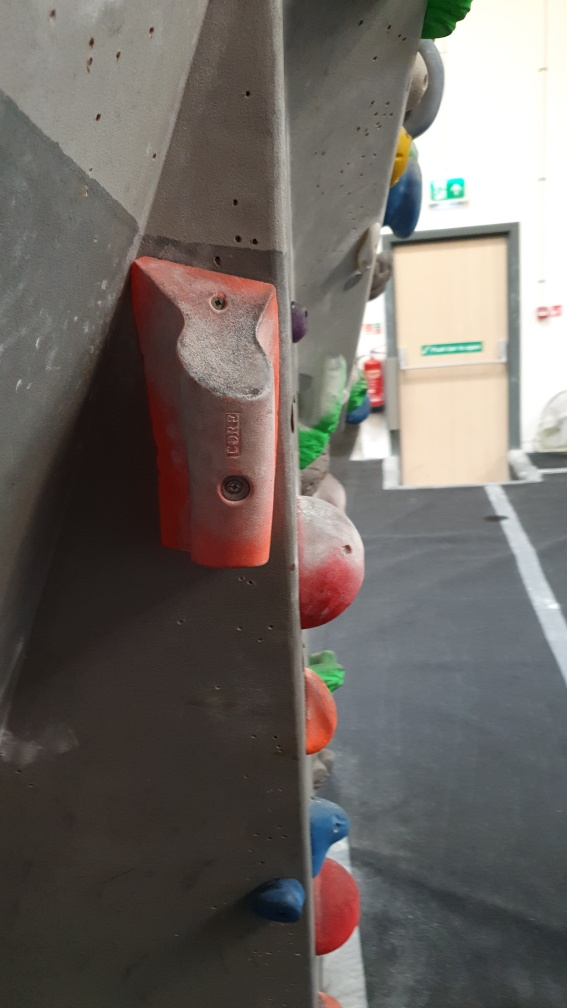Pinch: (122, 252, 282, 572)
Sloper: (291, 491, 366, 635), (312, 851, 363, 957)
